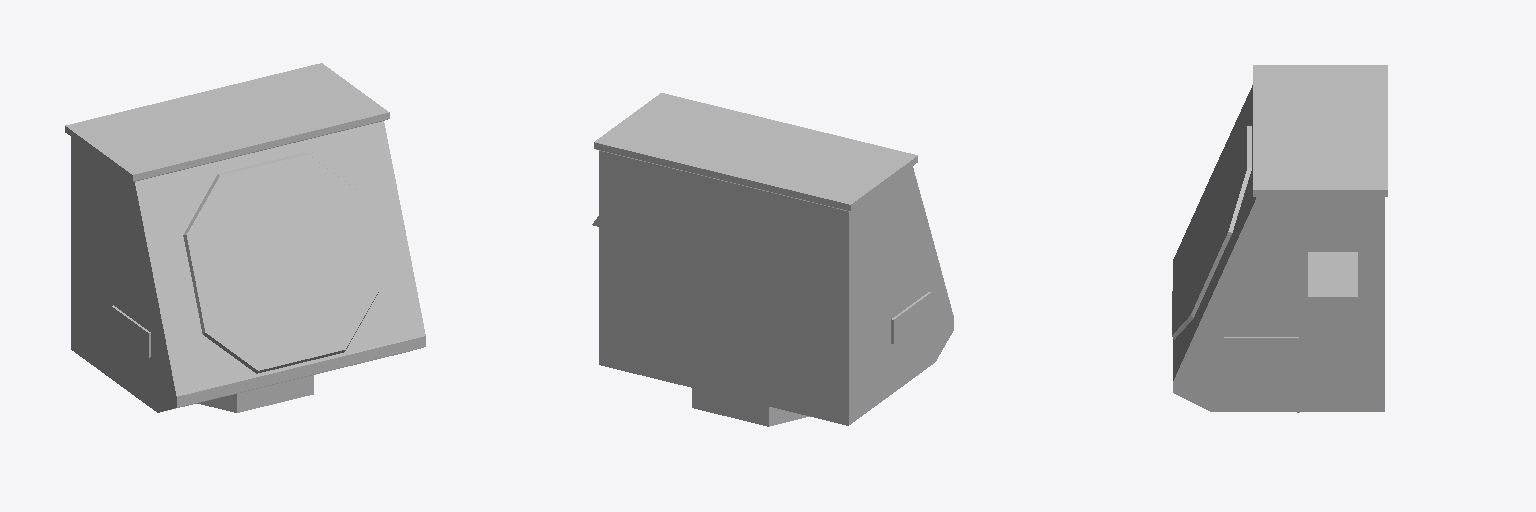
Rendered from Observatory_Landaegis_LOD2.obj.
3 renders of one model, left to right at view 1: azimuth 30°, elevation 25°; view 2: azimuth 150°, elevation 25°; view 3: azimuth 270°, elevation 25°, orthographic.
Parts seen in each view (by area): view 1: Observatory_Landaegis_LOD2_1, Observatory_Landaegis_LOD2_0; view 2: Observatory_Landaegis_LOD2_1, Observatory_Landaegis_LOD2_0; view 3: Observatory_Landaegis_LOD2_1, Observatory_Landaegis_LOD2_0.
Part boxes in pixels (left/top/right/bottom): Observatory_Landaegis_LOD2_1: left=65, top=63, right=425, bottom=412; Observatory_Landaegis_LOD2_0: left=111, top=153, right=378, bottom=412; Observatory_Landaegis_LOD2_1: left=594, top=93, right=953, bottom=425; Observatory_Landaegis_LOD2_0: left=592, top=216, right=930, bottom=426; Observatory_Landaegis_LOD2_1: left=1173, top=65, right=1387, bottom=411; Observatory_Landaegis_LOD2_0: left=1172, top=126, right=1357, bottom=412.
Size of the model in its own units: 11.63 by 10.08 by 7.97.